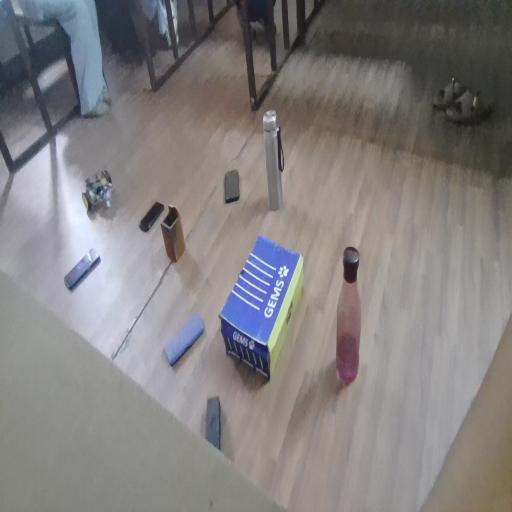Bottle: (329, 248, 379, 400)
car: (76, 147, 128, 214)
